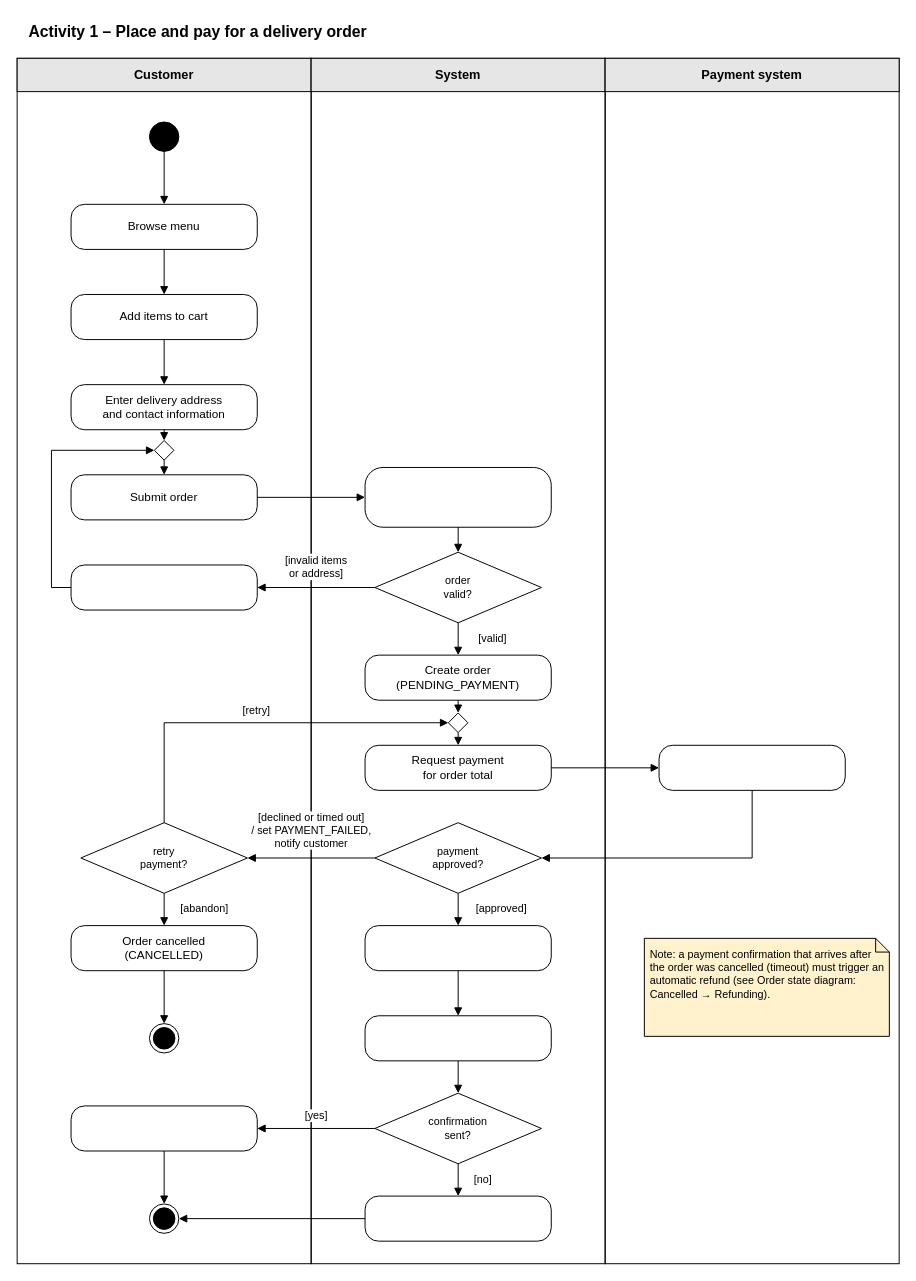
The diagram is 916 pixels wide and 1281 high, and some of its shapes have lost their labels. The centre of each missing label's shape, as x and y in pixels:
Log failure, retry notification later: (x=457, y=1218)
Process payment: (x=751, y=767)
Receive confirmation: (x=163, y=1128)
Receive error message, correct cart or details: (x=163, y=587)
Send order confirmation (notification system): (x=457, y=1038)
Set order PLACED: (x=457, y=948)
Validate order: items available, address valid, recalculate total on server: (x=457, y=496)
